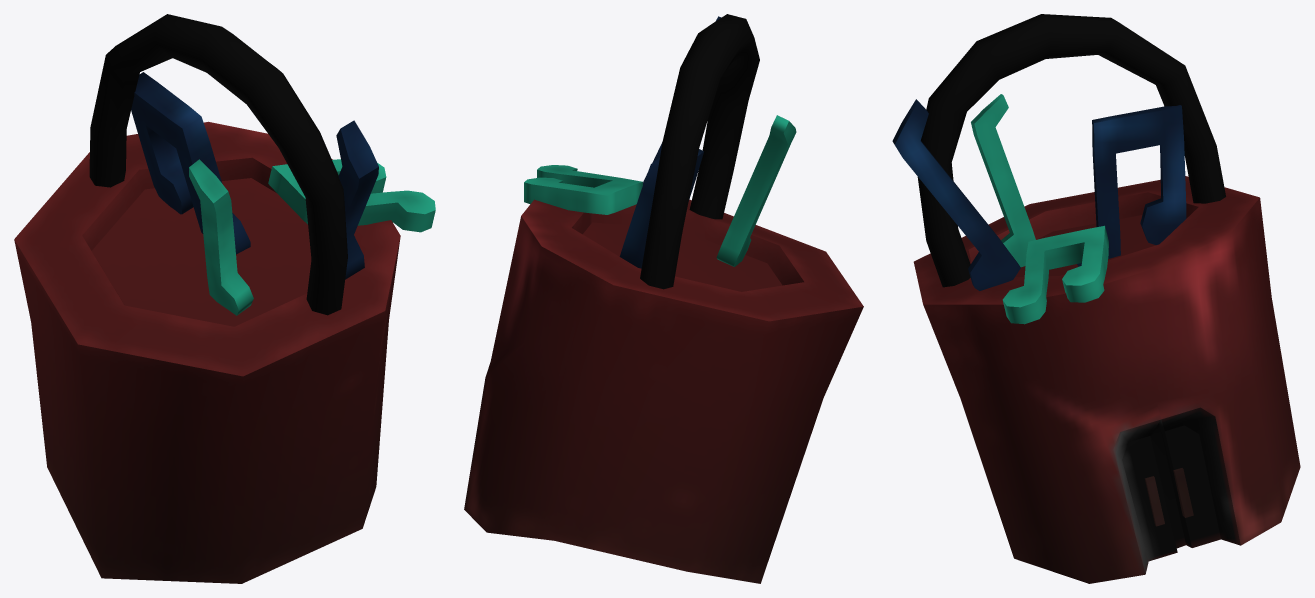
The model's file is modul_music_2.fbx.
3 views of the same model, side by side, from view 1: azimuth 30°, elevation 25°; view 2: azimuth 150°, elevation 25°; view 3: azimuth 270°, elevation 25° (orthographic). The views are drawn at different scales.
Visible parts, largest first — view 1: modul_music_2; view 2: modul_music_2; view 3: modul_music_2.
Boxes of the visible parts, box(x1,y1,x2,y2) form: modul_music_2: box(14, 14, 435, 583); modul_music_2: box(464, 14, 863, 583); modul_music_2: box(892, 14, 1300, 583).
Bounding box in the file's own units: 484 × 731 × 522.
1 material, 1 textured.
